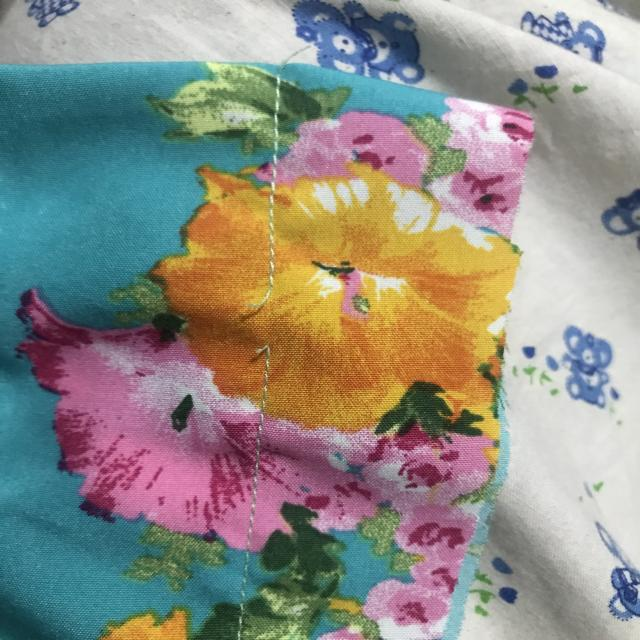broken: (234, 264, 294, 372)
